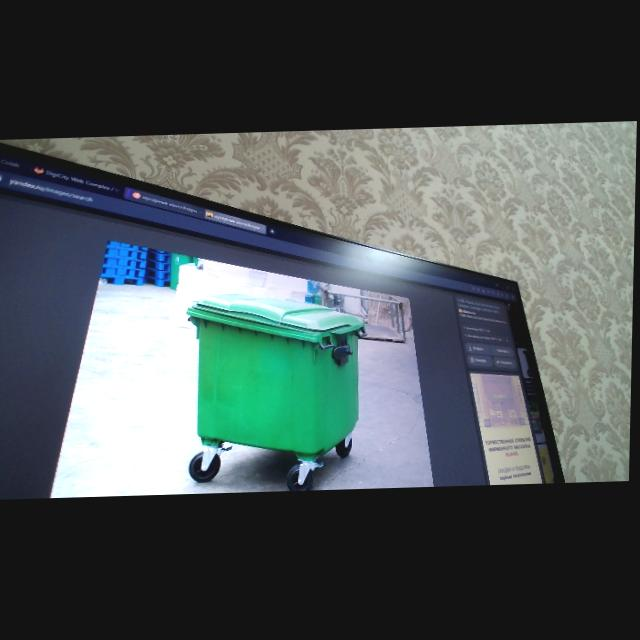Trash_Can_Closed: (186, 291, 369, 460)
